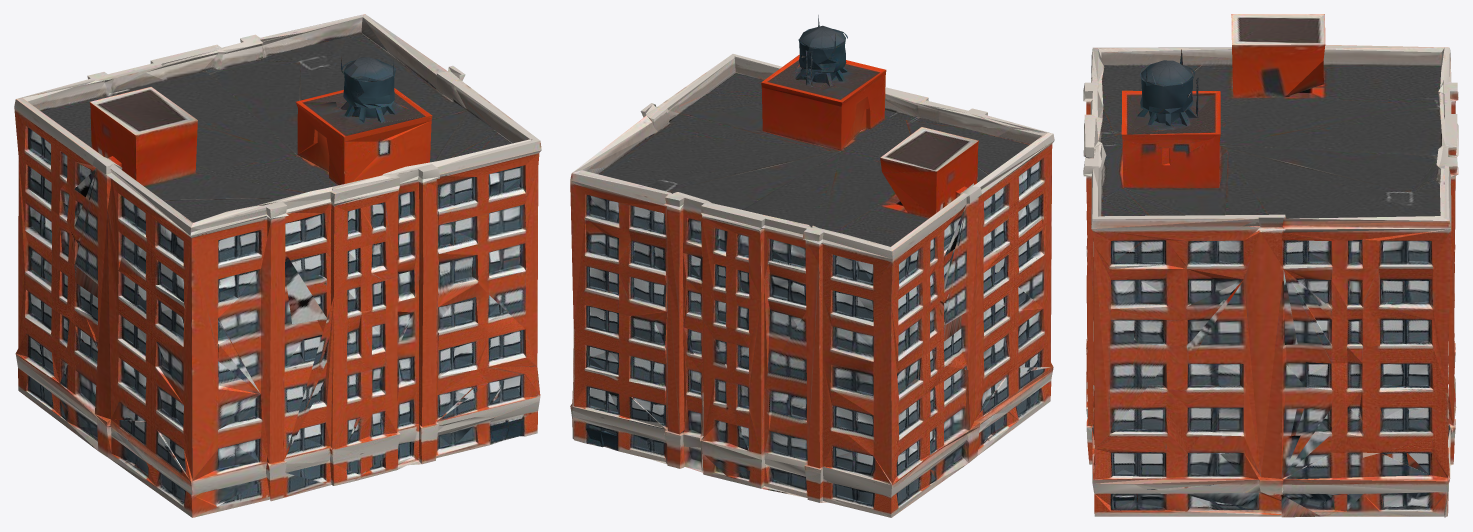
File: teleopBldg_midrise.900faa17.glb
The picture shows the model from 3 angles, left to right: view 1: azimuth 30°, elevation 25°; view 2: azimuth 150°, elevation 25°; view 3: azimuth 270°, elevation 25°; orthographic projection. The views are drawn at different scales.
Parts seen in each view (by area): view 1: output_unwrapped; view 2: output_unwrapped; view 3: output_unwrapped.
Part boxes in pixels (left/top/right/bottom): output_unwrapped: left=14, top=14, right=541, bottom=517; output_unwrapped: left=570, top=15, right=1054, bottom=517; output_unwrapped: left=1083, top=14, right=1458, bottom=517.
Bounding box in the file's own units: 1.85 × 1.89 × 1.64.
1 material, 1 textured.
